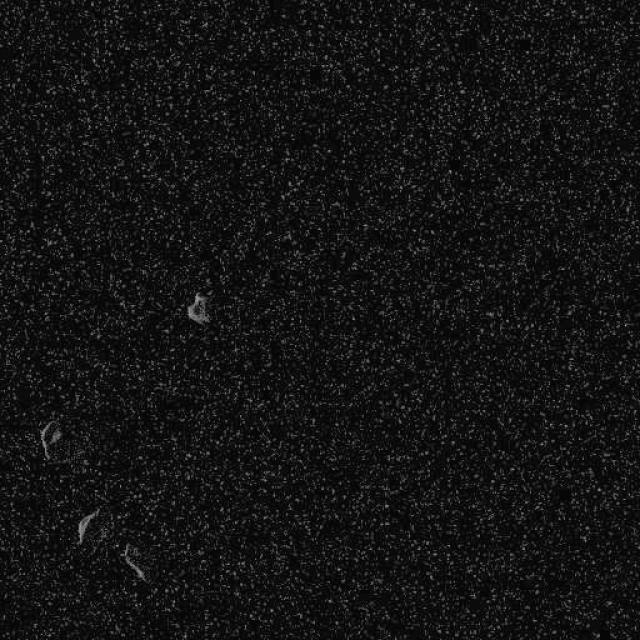D2: (119, 541, 148, 584), (38, 419, 62, 460), (75, 507, 100, 545), (186, 291, 212, 325)
